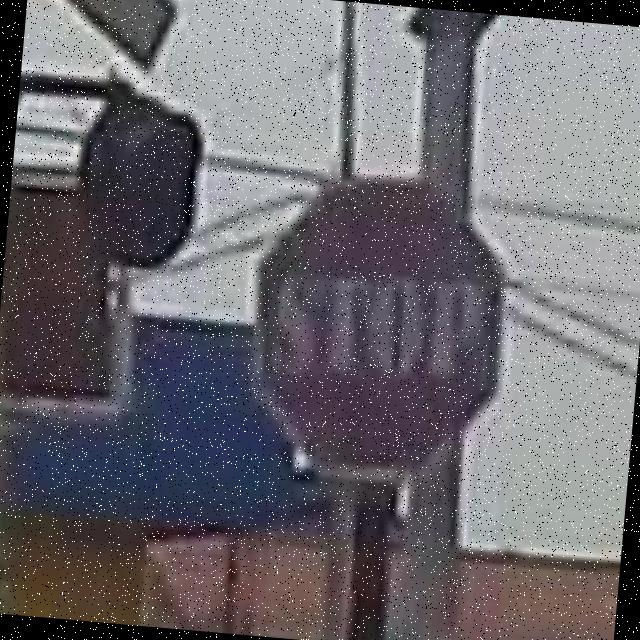Stop: (245, 169, 520, 493)
